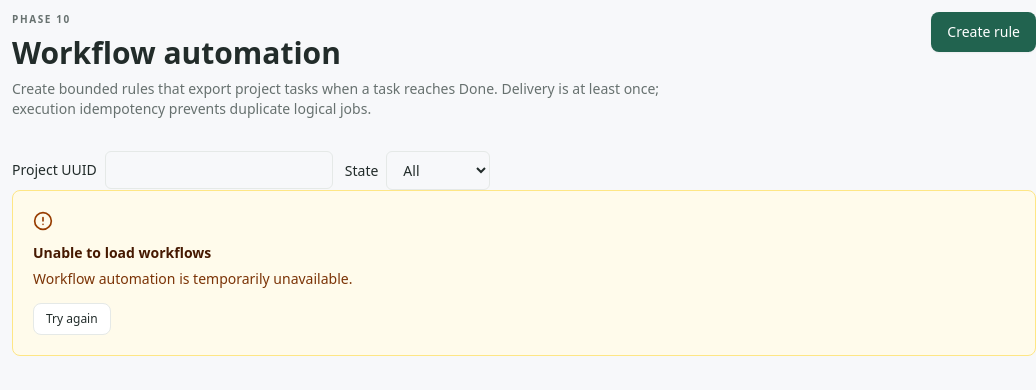
Test: workflow automation › renders a retryable sanitized error
The width and height of the screenshot is (1036, 390).
Expected: the heading "Unable to load workflows" is shown, [33,243,211,262]
What coordinates should you click on to do the following:
click the button "Try again"
I would click on:
 (72, 319)
Its box is [33,303,111,335].
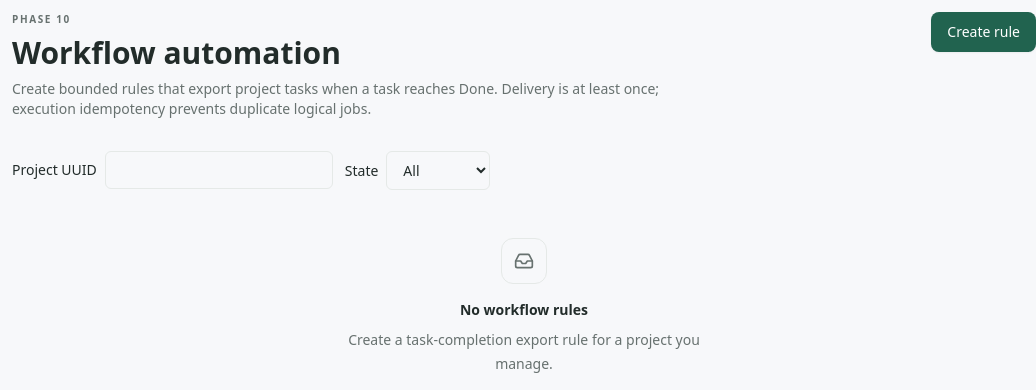
Expected: the heading "No workflow rules" is shown, [460,300,588,320]
